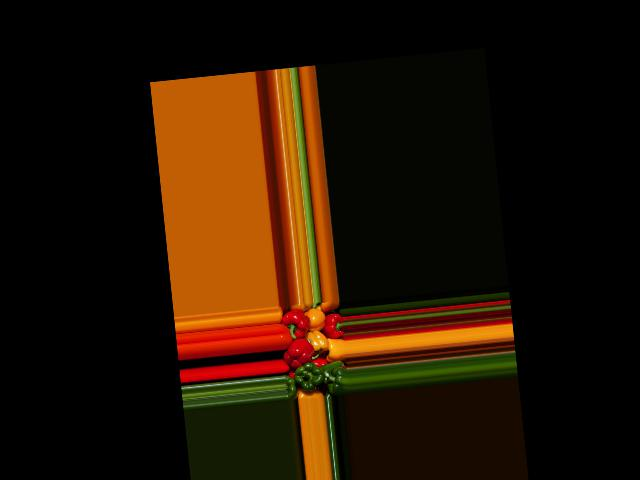bell_pepper: (283, 373, 301, 401)
